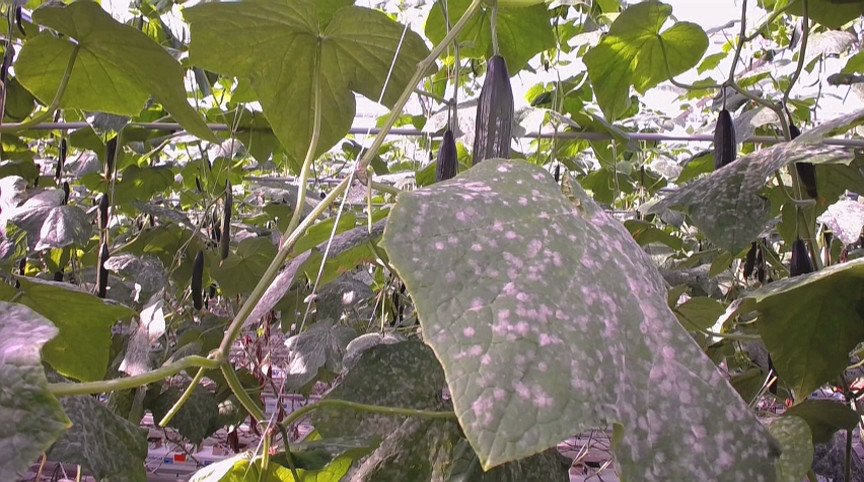cucumber: (470, 53, 516, 167), (716, 108, 736, 171), (435, 130, 459, 182), (96, 243, 111, 300), (191, 252, 205, 309), (791, 241, 810, 276)
